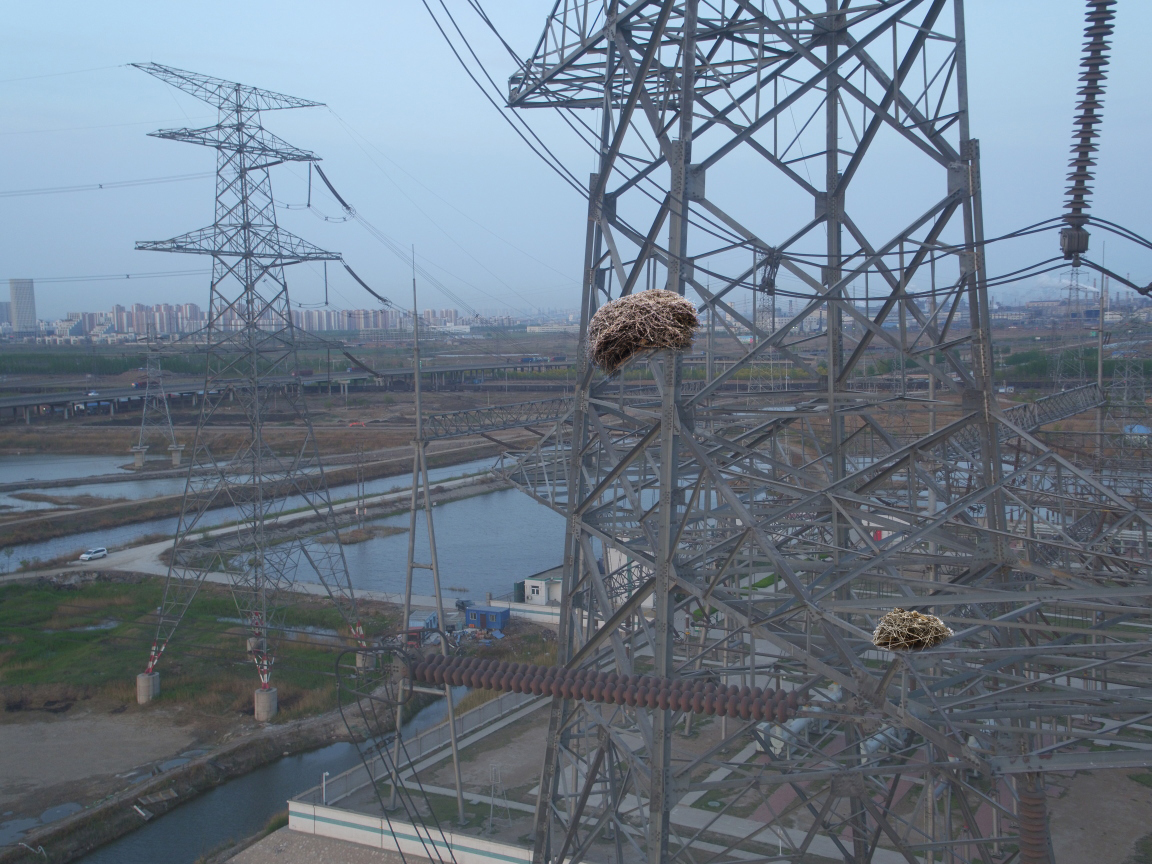nest: (588, 278, 699, 387), (866, 601, 958, 655)
